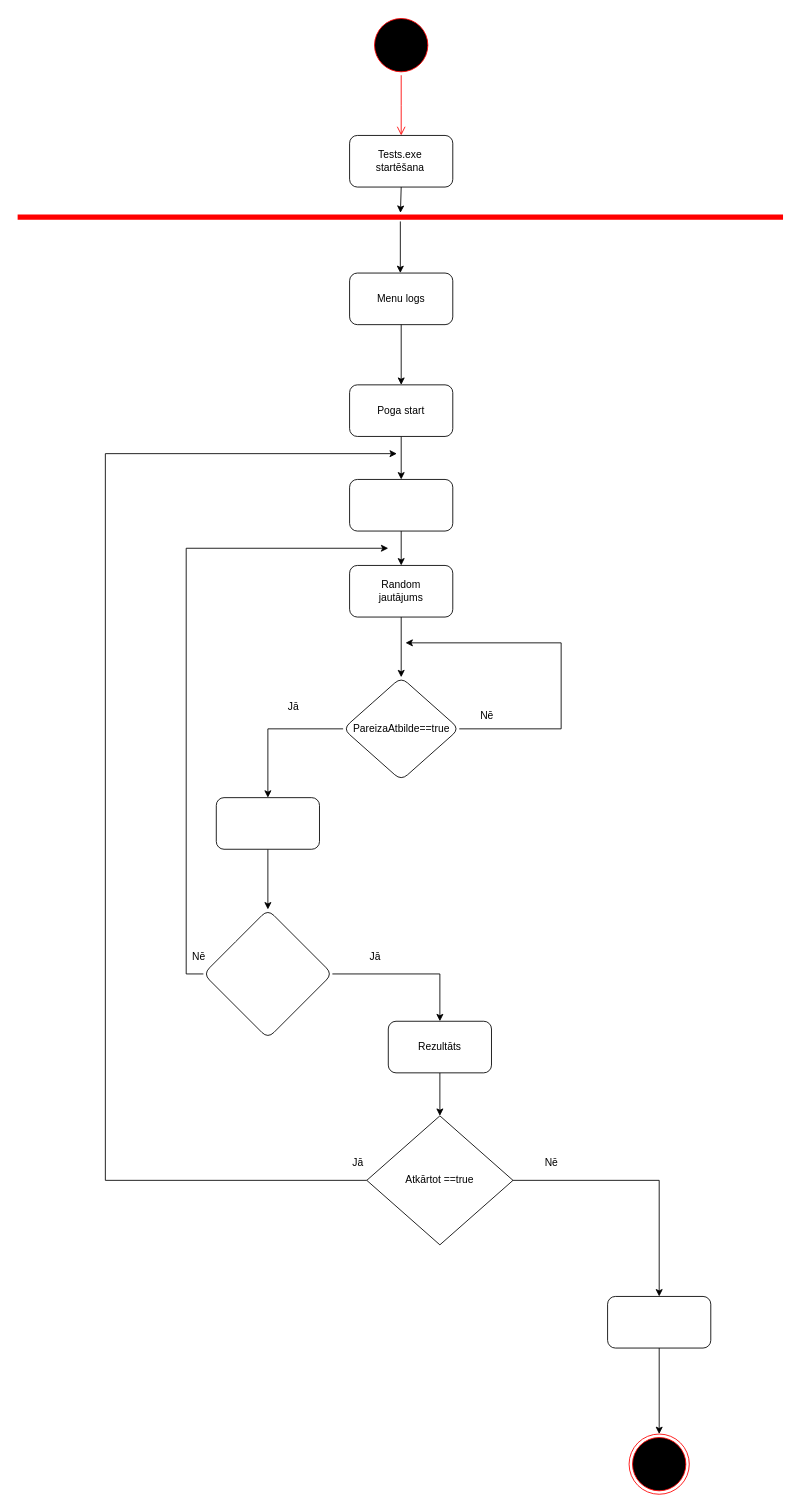
The diagram is 800 pixels wide and 1509 high, and some of its shapes have lost their labels. Each missing label, with the centre of its shape:
+1 punkts: point 267,823
Spēle beigās: point 659,1322
SpēleBeigas == true: point 267,973
Vārda ievade: point 401,505
